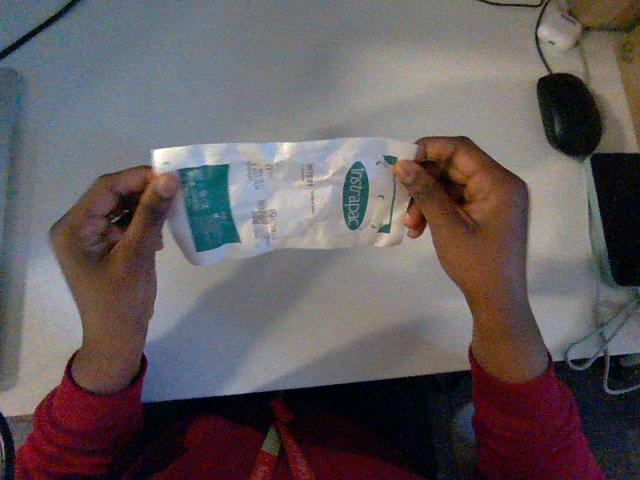gallipot: (152, 138, 416, 264)
